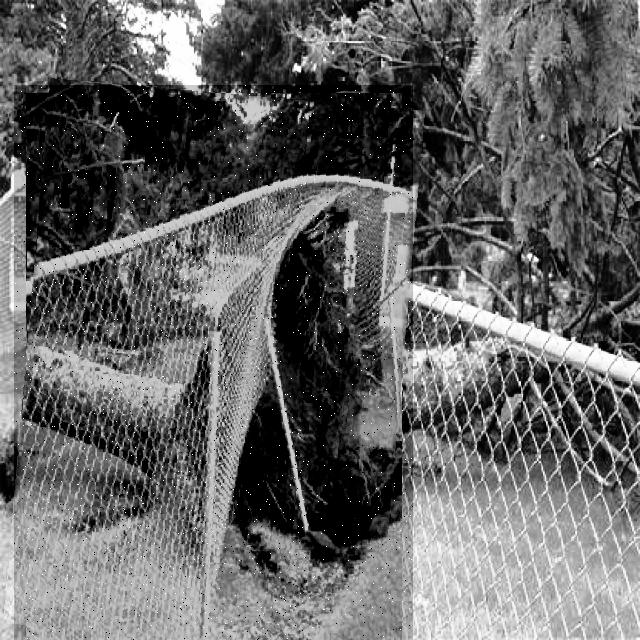anomaly-fence: (14, 85, 413, 640)
